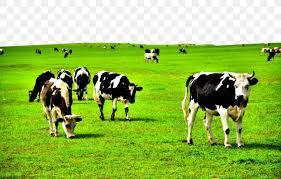cow: (182, 71, 259, 149), (40, 77, 83, 139), (93, 71, 143, 121), (28, 71, 55, 103), (74, 66, 92, 101), (58, 69, 73, 103), (143, 52, 158, 64), (267, 51, 276, 62), (261, 47, 271, 55), (272, 47, 281, 55), (179, 47, 187, 55), (151, 49, 160, 55), (63, 52, 69, 60), (35, 49, 42, 55), (145, 48, 151, 54), (62, 48, 68, 54), (53, 47, 59, 52), (69, 49, 73, 55)
